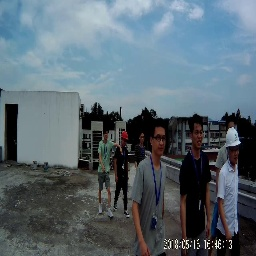helmet: (224, 129, 242, 149)
no-helmet: (150, 119, 168, 142), (186, 111, 208, 129)
no-vest: (183, 159, 209, 235), (139, 167, 164, 238), (220, 170, 239, 238), (116, 147, 127, 181), (100, 142, 110, 174)
person: (133, 119, 170, 256), (180, 111, 211, 256), (218, 118, 242, 255), (115, 127, 131, 218), (99, 124, 114, 219)
